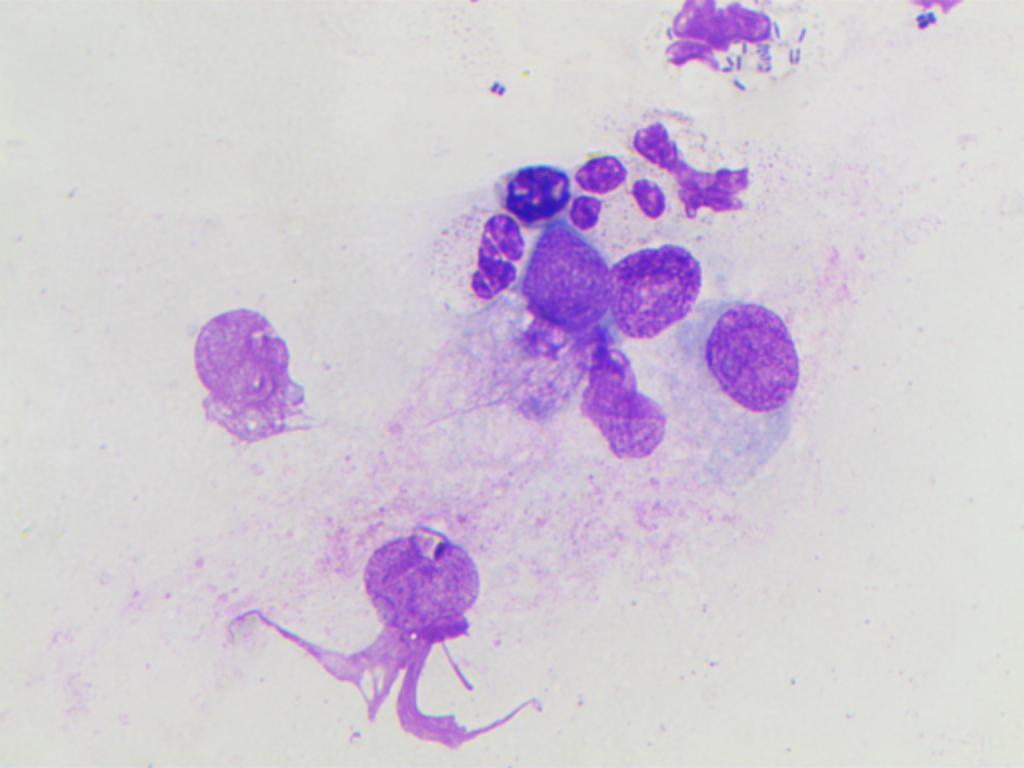artifact: (627, 118, 758, 220), (658, 0, 784, 77)
epithelial: (170, 301, 310, 441), (349, 526, 489, 629), (695, 295, 807, 417), (569, 343, 670, 471), (606, 226, 713, 341), (524, 220, 611, 330)
lymphocyte: (495, 163, 574, 229)
neutrophil: (425, 212, 523, 317), (557, 151, 672, 238)
